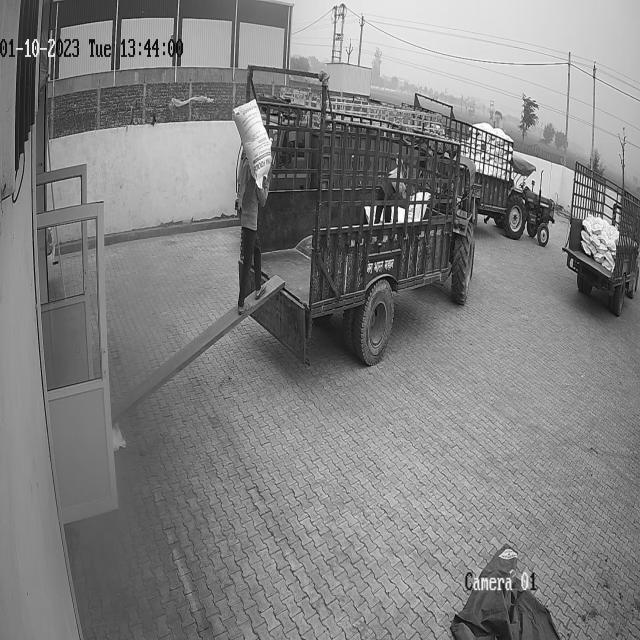sack: (234, 98, 272, 190)
